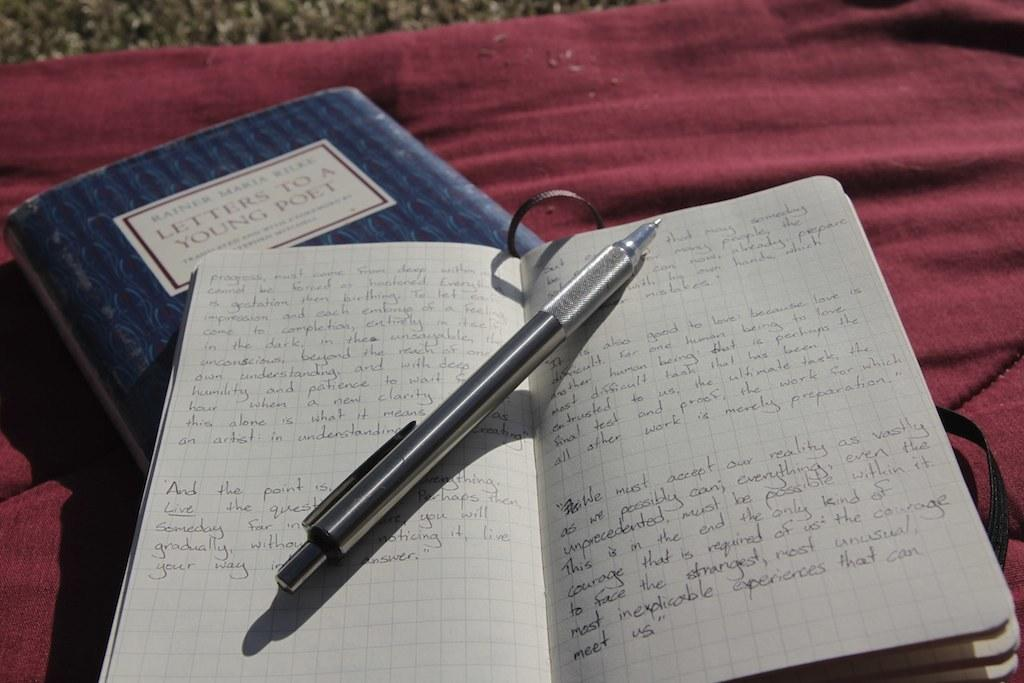pen: (288, 219, 674, 591)
